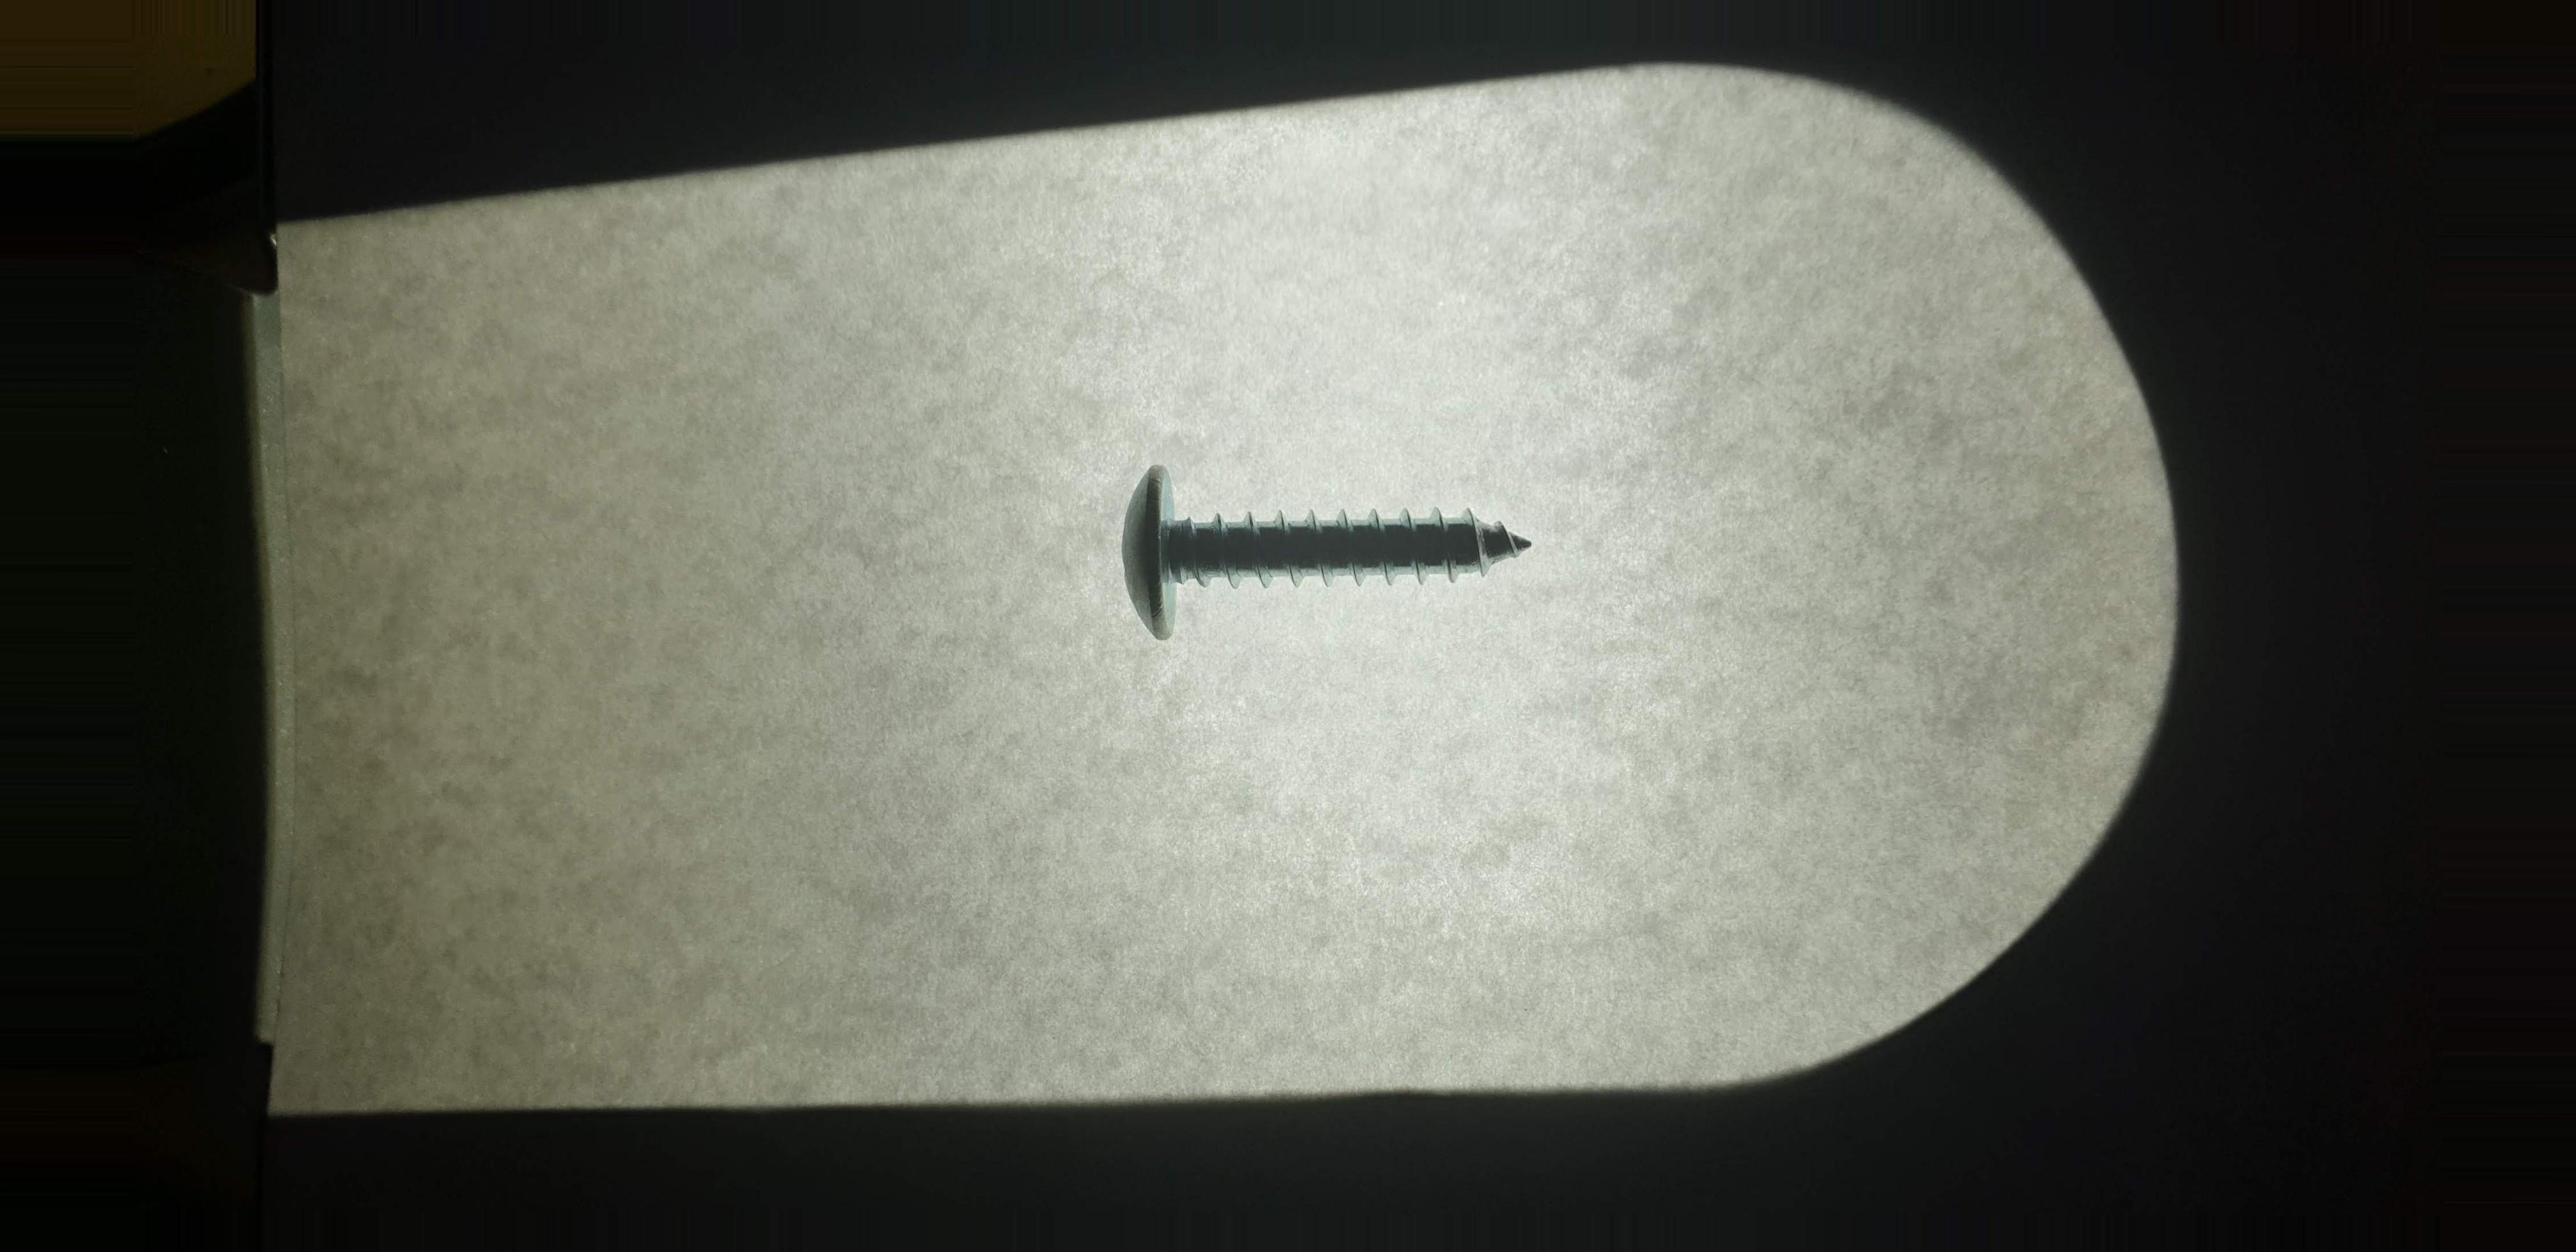S002: (997, 409, 1707, 670)
